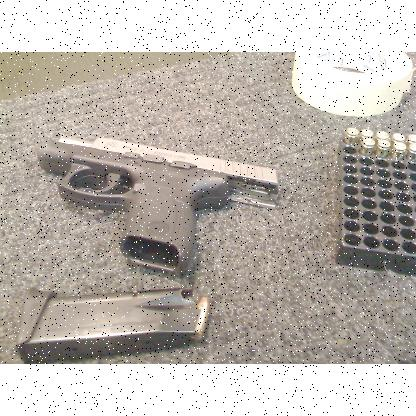gun: (36, 136, 278, 276)
